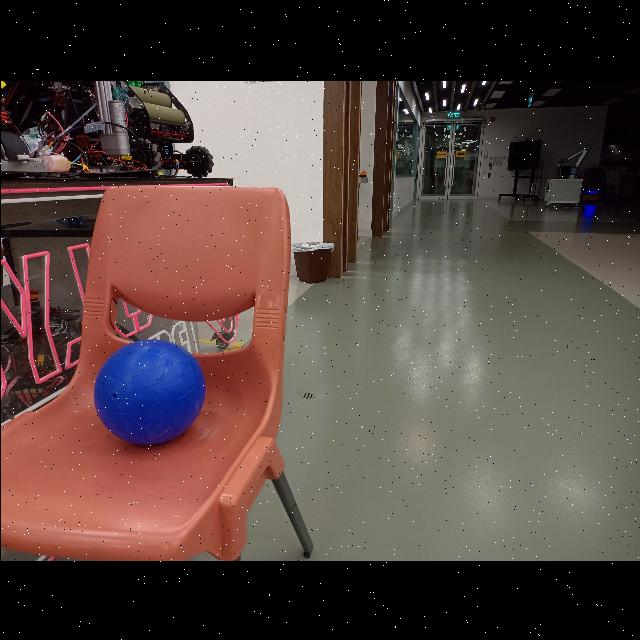B: (89, 334, 207, 444)
